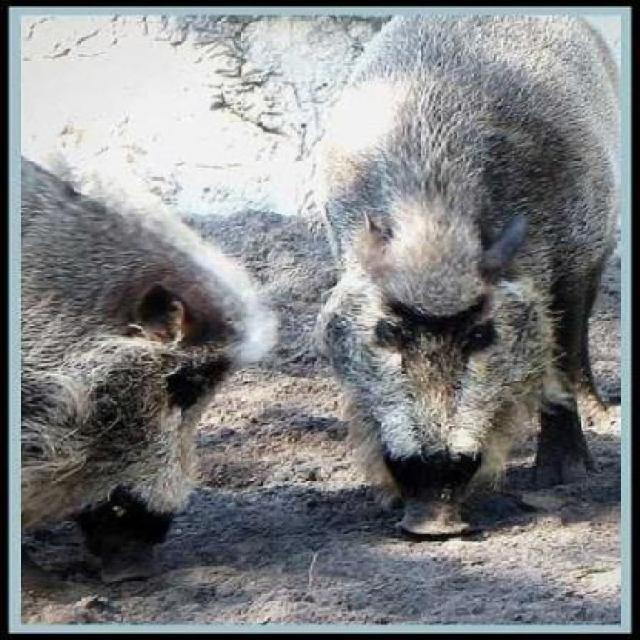Boar: (280, 0, 638, 548), (0, 93, 265, 562)
